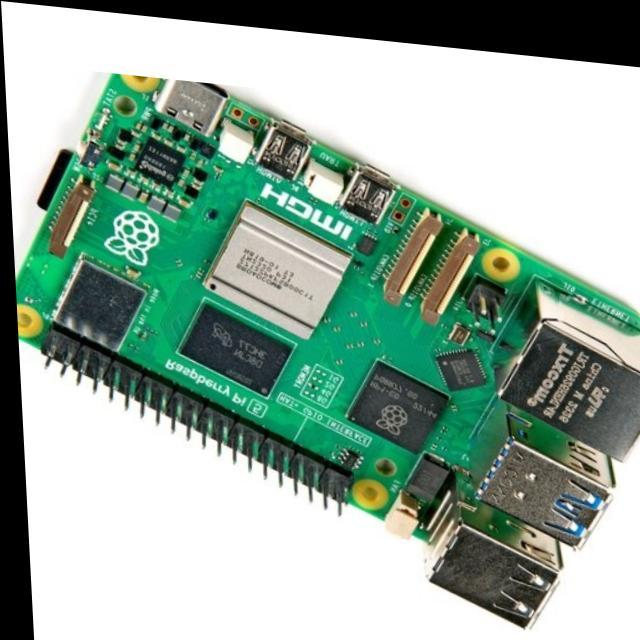Raspberry-Pi-5: (17, 75, 640, 628)
